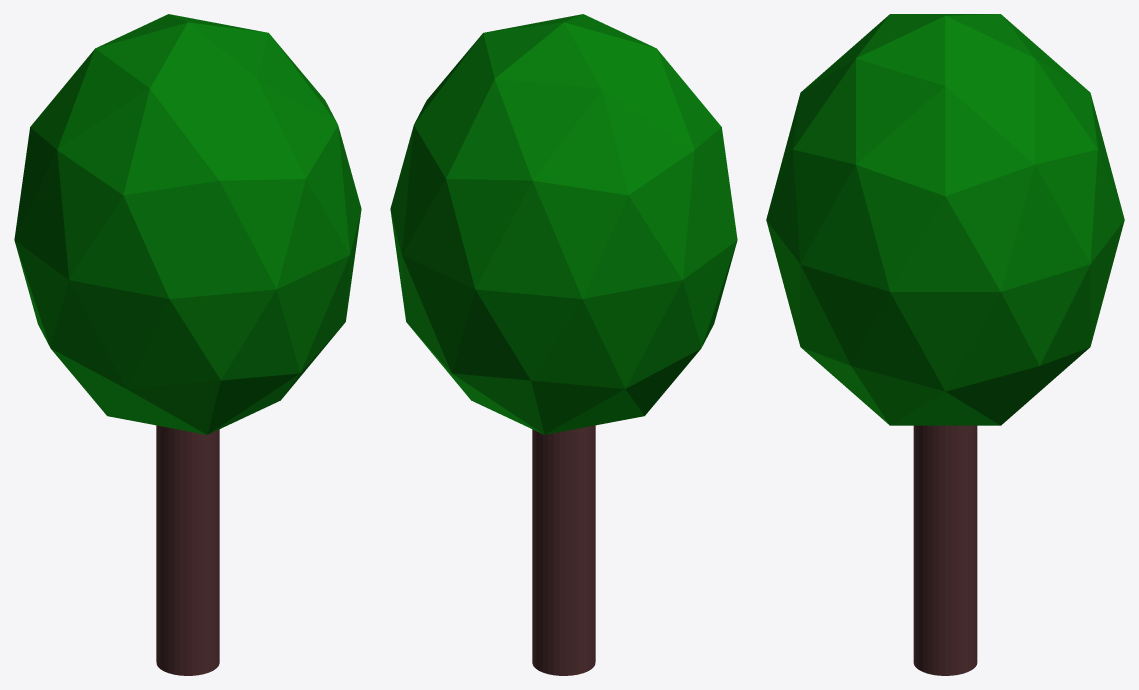
Rendered from tree.glb.
3 renders of one model, left to right at view 1: azimuth 30°, elevation 25°; view 2: azimuth 150°, elevation 25°; view 3: azimuth 270°, elevation 25°, orthographic.
Visible parts, largest first — view 1: ICO球, 円柱; view 2: ICO球, 円柱; view 3: ICO球, 円柱.
Boxes of the visible parts, <box> form: ICO球: <box>14,14,361,434</box>; 円柱: <box>156,425,219,675</box>; ICO球: <box>390,14,737,434</box>; 円柱: <box>532,425,595,675</box>; ICO球: <box>766,14,1124,425</box>; 円柱: <box>913,425,977,675</box>.
Bounding box in the file's own units: 1.09 × 2.29 × 1.15.
